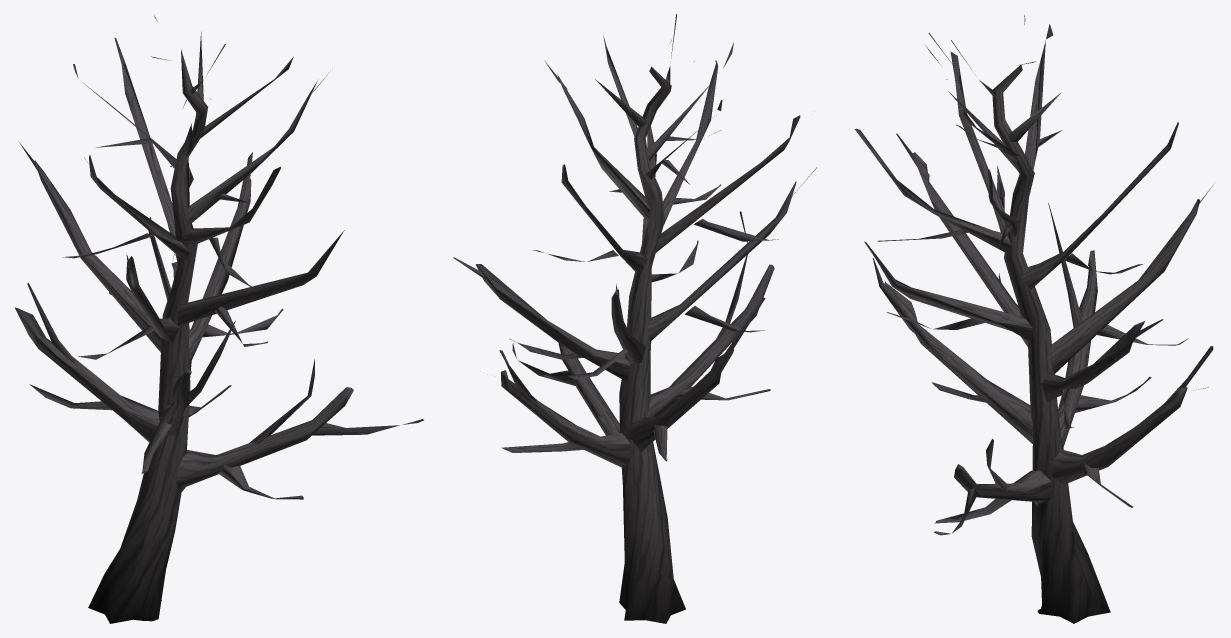
The model's file is DeadTree_2_far.gltf.
3 renders of one model, left to right at view 1: azimuth 30°, elevation 25°; view 2: azimuth 150°, elevation 25°; view 3: azimuth 270°, elevation 25°, orthographic. The views are drawn at different scales.
Visible parts, largest first — view 1: DeadTree_2; view 2: DeadTree_2; view 3: DeadTree_2.
Boxes of the visible parts, x1,y1,x2,y2 form: DeadTree_2: [14, 15, 423, 623]; DeadTree_2: [453, 14, 816, 623]; DeadTree_2: [854, 15, 1213, 623].
Size of the model in its own units: 6.72 by 11.49 by 6.34.
1 material, 1 textured.
